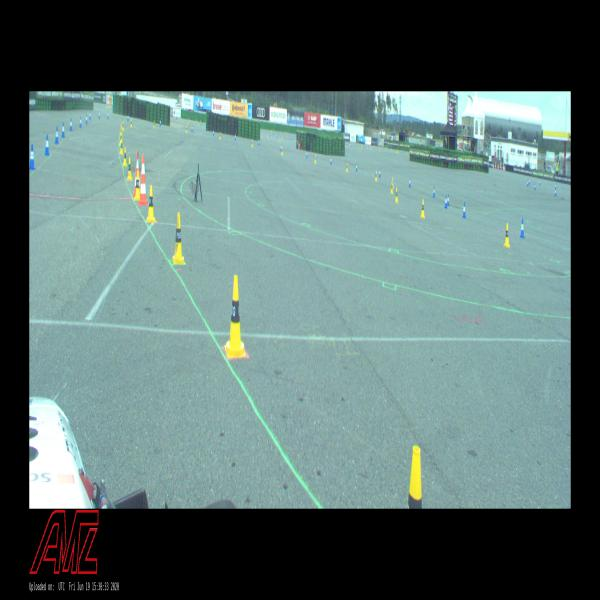blue_cone: (30, 144, 36, 169), (44, 135, 50, 155), (520, 219, 524, 238), (54, 127, 58, 144), (62, 122, 66, 138), (462, 202, 466, 218), (69, 118, 73, 131), (444, 195, 447, 208), (79, 117, 82, 127), (85, 114, 88, 124), (448, 194, 450, 206), (433, 187, 435, 197), (408, 178, 410, 187), (89, 112, 91, 120), (306, 150, 308, 158), (107, 112, 109, 120), (379, 169, 381, 177), (330, 157, 332, 164), (280, 144, 282, 151), (534, 183, 536, 189), (258, 139, 260, 145), (127, 114, 129, 120), (99, 111, 100, 119), (356, 163, 357, 171), (235, 133, 236, 140), (160, 119, 161, 126), (213, 129, 214, 136), (555, 189, 556, 196), (529, 178, 530, 185), (192, 126, 193, 132), (297, 140, 298, 146), (266, 129, 267, 134), (555, 184, 556, 188), (189, 120, 190, 124), (188, 118, 189, 122), (201, 120, 202, 124), (284, 132, 285, 136), (290, 137, 291, 141), (408, 150, 409, 154), (346, 141, 347, 145), (269, 133, 270, 136), (294, 134, 295, 137), (540, 179, 540, 186), (528, 180, 528, 186), (352, 143, 352, 147), (277, 134, 277, 138), (401, 150, 401, 154), (354, 143, 354, 147), (350, 143, 350, 147)
large_orange_cone: (138, 154, 148, 205), (133, 150, 140, 195), (502, 160, 504, 170), (500, 161, 502, 170), (495, 160, 496, 168)
orange_cone: (498, 163, 499, 169), (195, 120, 196, 125), (286, 136, 287, 140), (493, 164, 494, 168)
yellow_cone: (226, 275, 244, 357), (407, 446, 422, 509), (173, 213, 184, 264), (147, 186, 155, 222), (134, 171, 140, 200), (504, 223, 510, 247), (127, 157, 132, 181), (420, 199, 425, 218), (123, 148, 127, 166), (395, 188, 398, 203), (120, 139, 123, 154), (119, 132, 122, 145), (122, 121, 125, 131), (120, 124, 122, 135), (392, 177, 394, 188), (390, 182, 392, 192), (346, 163, 348, 172), (375, 172, 377, 180), (281, 147, 283, 155), (153, 120, 155, 128), (219, 132, 221, 139), (186, 126, 188, 132), (298, 140, 300, 146), (315, 155, 316, 163), (131, 119, 132, 127), (252, 140, 253, 148), (262, 132, 263, 138), (106, 103, 107, 108), (178, 116, 179, 121), (267, 132, 268, 137), (268, 134, 269, 139), (379, 148, 380, 153), (198, 120, 199, 124), (282, 136, 283, 140), (279, 136, 280, 140), (200, 119, 201, 123), (396, 149, 397, 153), (406, 151, 407, 155), (187, 121, 188, 125), (109, 104, 110, 108), (110, 104, 111, 108), (179, 116, 180, 120), (181, 114, 182, 118), (196, 118, 197, 122), (271, 129, 272, 133), (273, 127, 274, 131), (361, 144, 362, 148), (367, 144, 368, 148), (386, 146, 387, 150), (345, 143, 346, 147), (349, 142, 350, 146), (189, 117, 190, 120), (370, 145, 371, 148), (108, 103, 108, 108), (286, 129, 286, 133), (287, 131, 287, 136), (361, 146, 361, 151), (398, 148, 398, 153), (296, 138, 296, 142), (358, 144, 358, 148), (371, 146, 371, 150), (375, 143, 375, 147), (382, 145, 382, 149), (391, 147, 391, 150)
